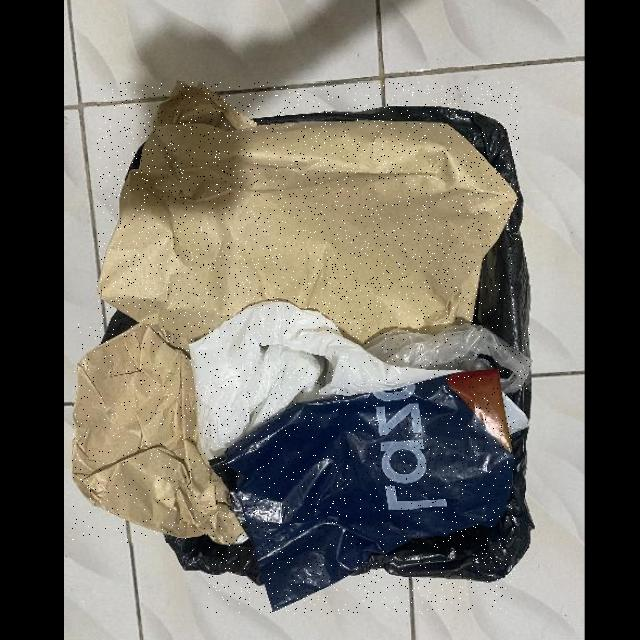paper: (97, 82, 519, 343), (72, 320, 246, 542)
plastic: (207, 365, 515, 613), (364, 322, 531, 394)
